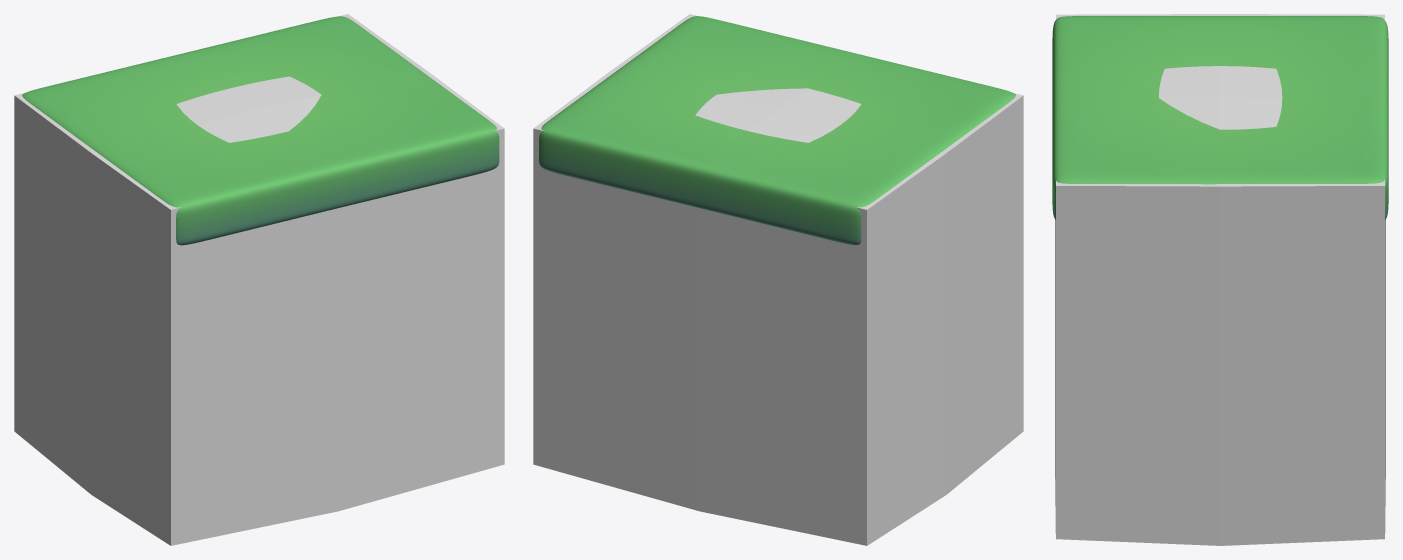
The model's file is PlatformGigaSmall.glb.
The picture shows the model from 3 angles, left to right: view 1: azimuth 30°, elevation 25°; view 2: azimuth 150°, elevation 25°; view 3: azimuth 270°, elevation 25°; orthographic projection. The views are drawn at different scales.
Parts seen in each view (by area): view 1: colision-colonly.022, PlatformGigaSmall; view 2: colision-colonly.022, PlatformGigaSmall; view 3: colision-colonly.022, PlatformGigaSmall.
Part boxes in pixels (x1,y1,x2,y2): colision-colonly.022: (14,14,504,545); PlatformGigaSmall: (22,16,499,245); colision-colonly.022: (533,14,1023,545); PlatformGigaSmall: (539,16,1015,245); colision-colonly.022: (1055,14,1385,545); PlatformGigaSmall: (1052,16,1388,220).
Bounding box in the file's own units: 6.07 × 5.96 × 5.
Materials: 1 (1 with a texture image).
